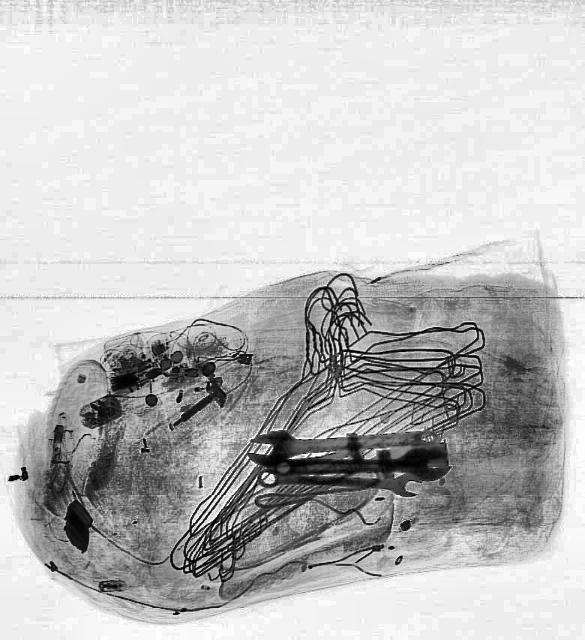Wrench: (243, 414, 438, 471), (278, 445, 452, 485), (257, 462, 422, 498)
